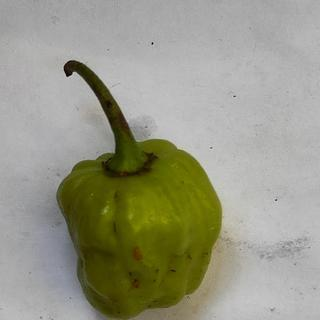Fly-bites: (164, 261, 187, 282)
